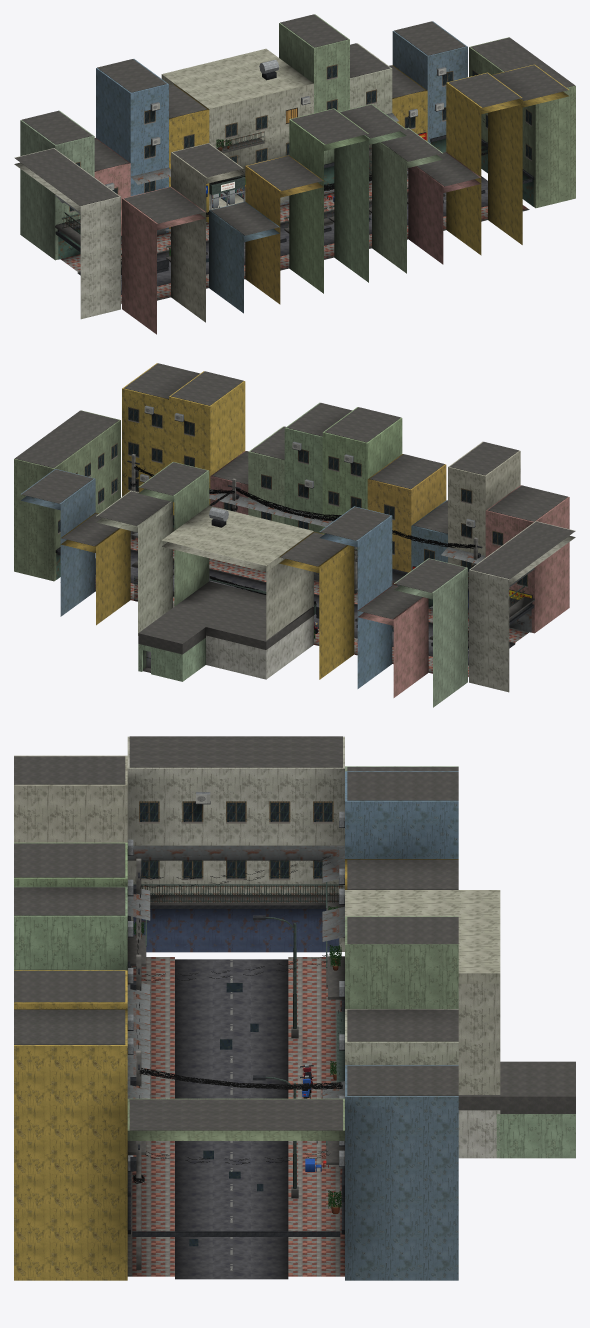
The model's file is store.glb.
The picture shows the model from 3 angles, top to bottom: view 1: azimuth 30°, elevation 25°; view 2: azimuth 150°, elevation 25°; view 3: azimuth 270°, elevation 25°; orthographic projection. The views are drawn at different scales.
Parts seen in each view (by area): view 1: store_wall_green, store_concrete_dark, store_wall_white, store_wall_yellow, store_wall_blue, store_wall_pink, store_window_bars, store_sidewalk, store_shutter_green, store_asphalt, store_metal_dark, store_railing_cut (+4 smaller); view 2: store_concrete_dark, store_wall_green, store_wall_white, store_wall_yellow, store_wall_blue, store_wall_pink, store_window_bars, store_shutter_grey, store_sidewalk, store_cables_cut, store_asphalt, store_concrete (+2 smaller); view 3: store_concrete_dark, store_wall_white, store_wall_yellow, store_wall_blue, store_wall_green, store_sidewalk, store_asphalt, store_asphalt_line, store_shutter_blue, store_shutter_grey, store_window_bars, store_metal_dark (+6 smaller).
Boxes of the visible parts, <box> form: store_wall_green: <box>20,14,575,293</box>; store_concrete_dark: <box>15,14,574,274</box>; store_wall_white: <box>14,43,392,322</box>; store_wall_yellow: <box>169,64,568,304</box>; store_wall_blue: <box>96,21,467,313</box>; store_wall_pink: <box>94,138,480,334</box>; store_window_bars: <box>69,64,531,212</box>; store_sidewalk: <box>60,174,529,303</box>; store_shutter_green: <box>58,138,533,259</box>; store_asphalt: <box>78,176,487,295</box>; store_metal_dark: <box>55,71,534,280</box>; store_railing_cut: <box>62,131,408,264</box>; store_concrete_dark: <box>15,363,575,654</box>; store_wall_green: <box>14,402,467,707</box>; store_wall_white: <box>96,441,575,692</box>; store_wall_yellow: <box>61,363,446,679</box>; store_wall_blue: <box>21,469,447,688</box>; store_wall_pink: <box>210,451,569,697</box>; store_window_bars: <box>58,407,527,587</box>; store_shutter_grey: <box>130,489,535,632</box>; store_sidewalk: <box>95,535,528,676</box>; store_cables_cut: <box>101,465,475,605</box>; store_asphalt: <box>95,550,514,665</box>; store_concrete: <box>130,454,515,672</box>; store_concrete_dark: <box>14,736,575,1198</box>; store_wall_white: <box>14,736,500,1158</box>; store_wall_yellow: <box>14,859,458,1280</box>; store_wall_blue: <box>345,771,458,1280</box>; store_wall_green: <box>14,766,575,1158</box>; store_sidewalk: <box>127,957,344,1276</box>; store_asphalt: <box>175,959,288,1279</box>; store_asphalt_line: <box>212,959,250,1279</box>; store_shutter_blue: <box>133,909,339,952</box>; store_shutter_grey: <box>127,845,344,1098</box>; store_window_bars: <box>139,801,333,880</box>; store_metal_dark: <box>127,801,344,1236</box>.
Size of what is drawn, in the model's own units: 49.2 by 14.33 by 29.7.
Materials: 58 (58 with a texture image).
